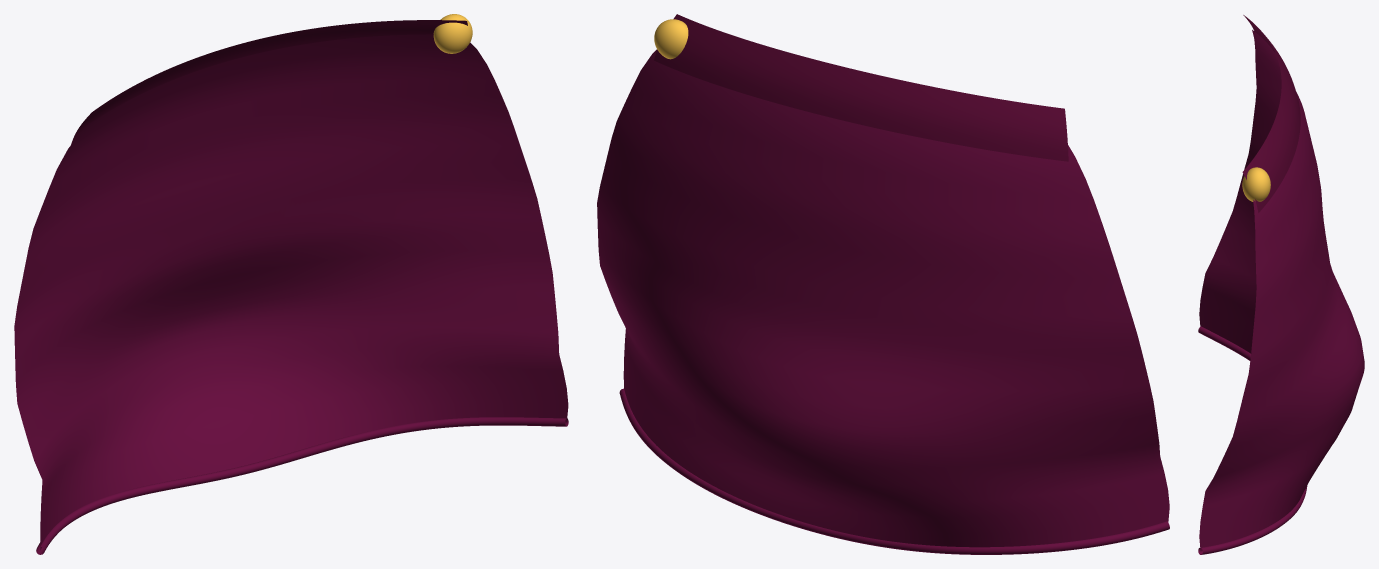
The model's file is plum-cape.glb.
The picture shows the model from 3 angles, left to right: view 1: azimuth 30°, elevation 25°; view 2: azimuth 150°, elevation 25°; view 3: azimuth 270°, elevation 25°; orthographic projection. The views are drawn at different scales.
Visible parts, largest first — view 1: plum_cloth, plum_rear_band, plum_soft_hem, plum_side_gold_clasp; view 2: plum_cloth, plum_rear_band, plum_soft_hem, plum_side_gold_clasp; view 3: plum_cloth, plum_rear_band, plum_soft_hem, plum_side_gold_clasp.
Part boxes in pixels (<box>): plum_cloth: <box>14,34,568,550</box>; plum_rear_band: <box>71,20,467,144</box>; plum_soft_hem: <box>36,417,568,554</box>; plum_side_gold_clasp: <box>433,14,472,53</box>; plum_cloth: <box>597,49,1169,547</box>; plum_rear_band: <box>654,14,1068,161</box>; plum_soft_hem: <box>619,388,1169,554</box>; plum_side_gold_clasp: <box>654,19,688,59</box>; plum_cloth: <box>1199,30,1364,551</box>; plum_rear_band: <box>1242,15,1300,212</box>; plum_soft_hem: <box>1198,326,1307,554</box>; plum_side_gold_clasp: <box>1242,167,1270,201</box>.
Size of the model in its own units: 1.42 by 1.13 by 0.4435.
